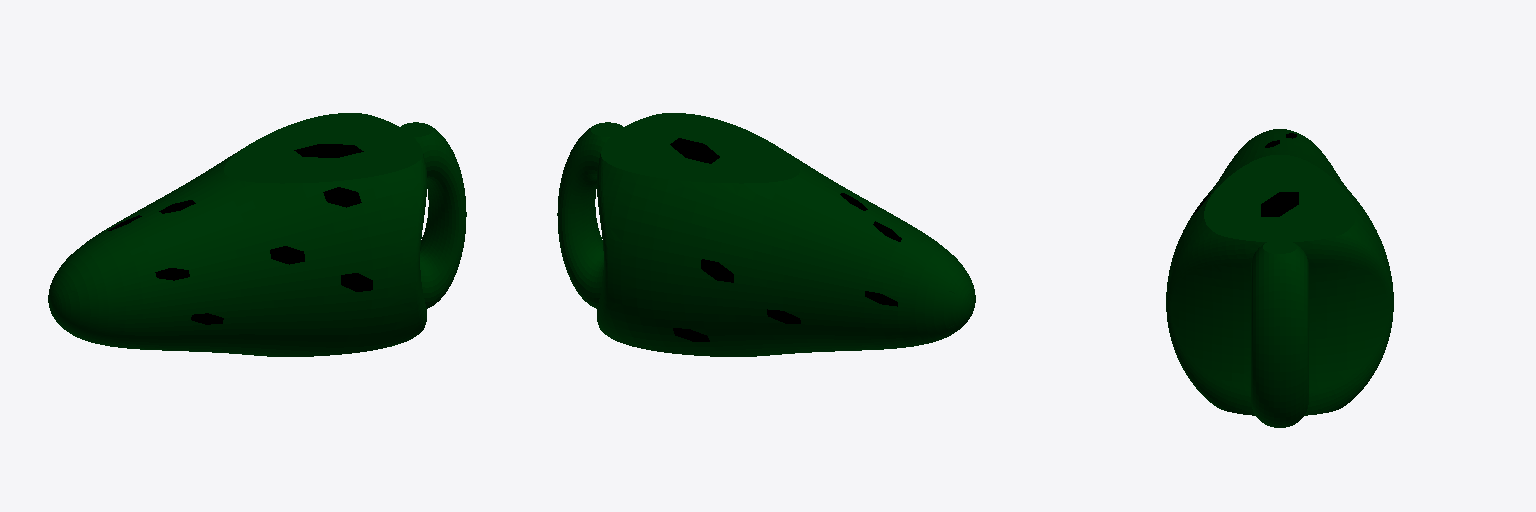
Rendered from SnakeTail.obj.
3 renders of one model, left to right at view 1: azimuth 30°, elevation 25°; view 2: azimuth 150°, elevation 25°; view 3: azimuth 270°, elevation 25°, orthographic.
Parts seen in each view (by area): view 1: SnakeTail_Mesh.001; view 2: SnakeTail_Mesh.001; view 3: SnakeTail_Mesh.001.
Part boxes in pixels (x1,y1,x2,y2): SnakeTail_Mesh.001: (48,113,466,356); SnakeTail_Mesh.001: (557,113,975,356); SnakeTail_Mesh.001: (1166,129,1393,427).
Bounding box in the file's own units: 0.2222 × 0.0908 × 0.1074.